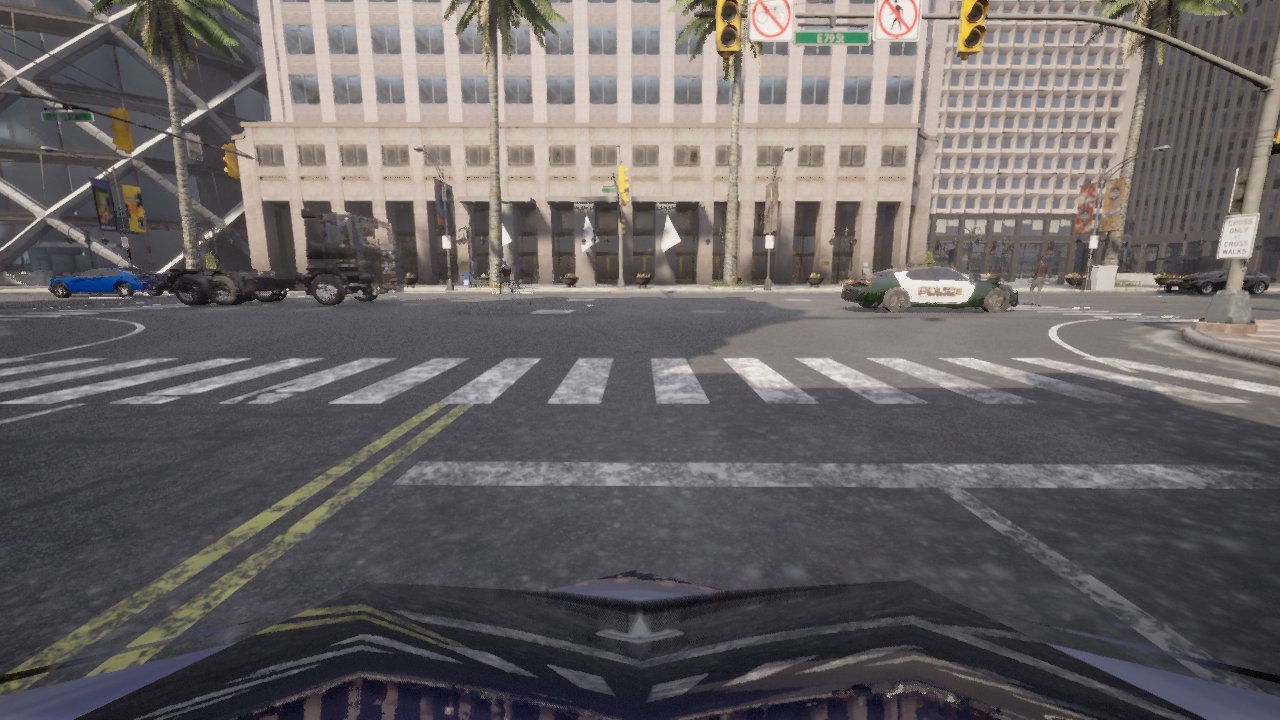cyclist: (0, 569, 1279, 719), (155, 209, 404, 306), (842, 262, 1019, 313), (49, 267, 169, 296), (1164, 269, 1269, 294), (495, 278, 515, 301)
pedestrian: (1028, 255, 1048, 306)
